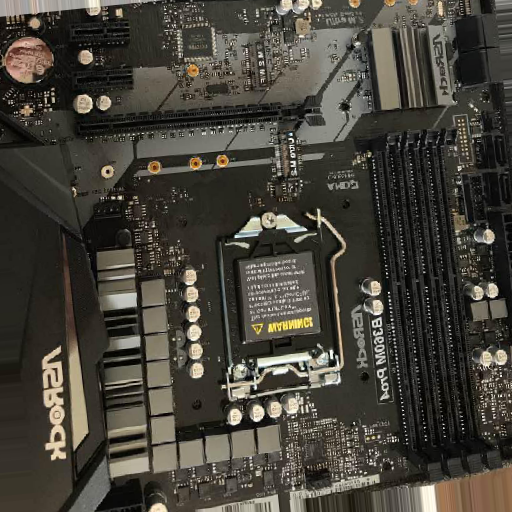CPU: (215, 214, 342, 403)
GPU: (77, 94, 326, 139)
MOTHERBOARD: (1, 2, 509, 511)
RAM: (370, 131, 505, 481)
SSD: (271, 130, 300, 180), (246, 40, 271, 89)
